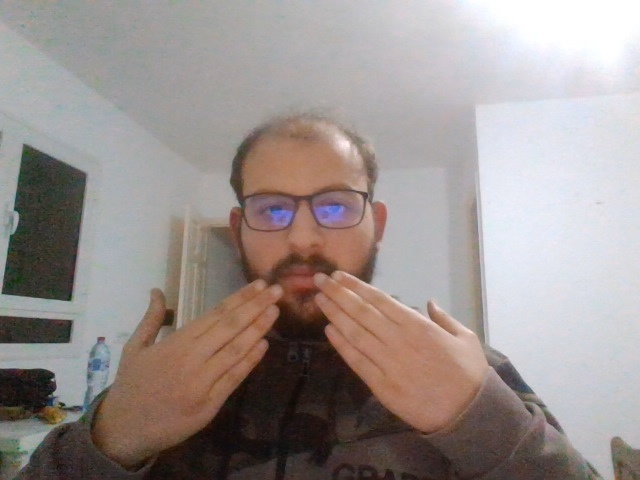Thank You: (120, 270, 475, 436)
